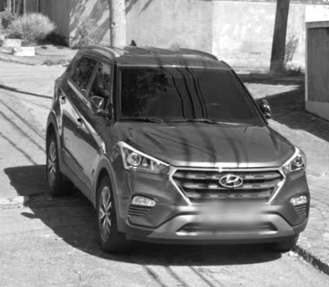car: (46, 45, 311, 259)
